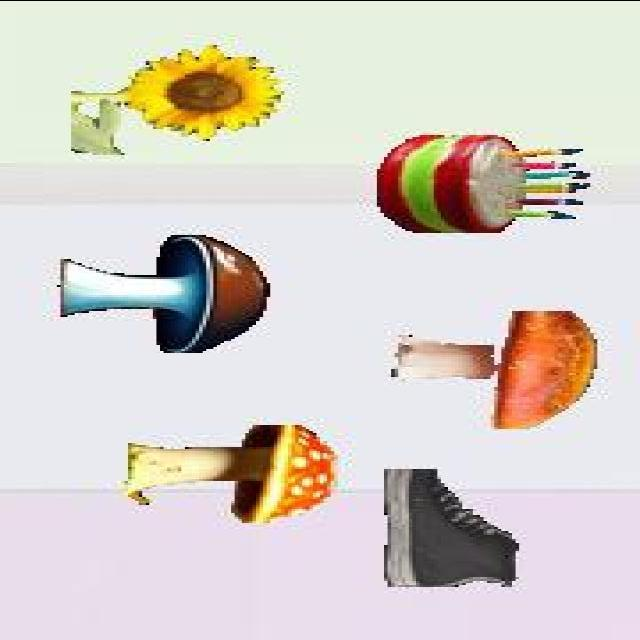Other Objects: (58, 232, 270, 354), (390, 310, 602, 428), (126, 423, 338, 524), (382, 467, 523, 587)
